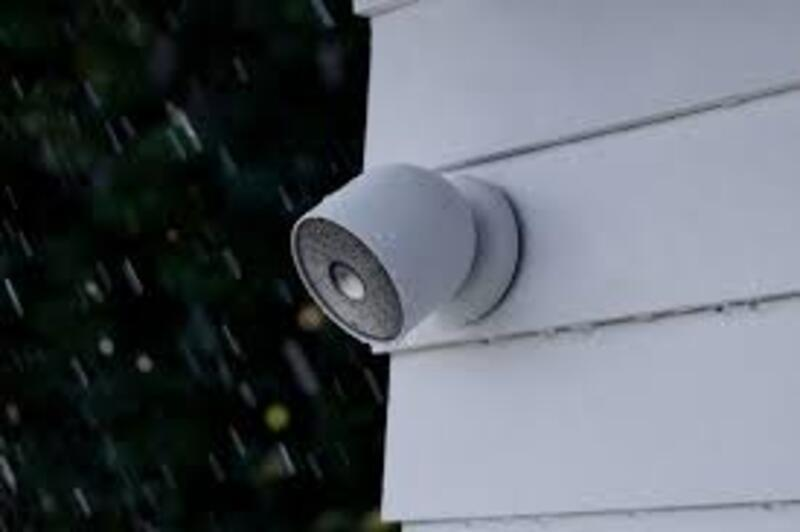nest: (289, 157, 480, 348)
